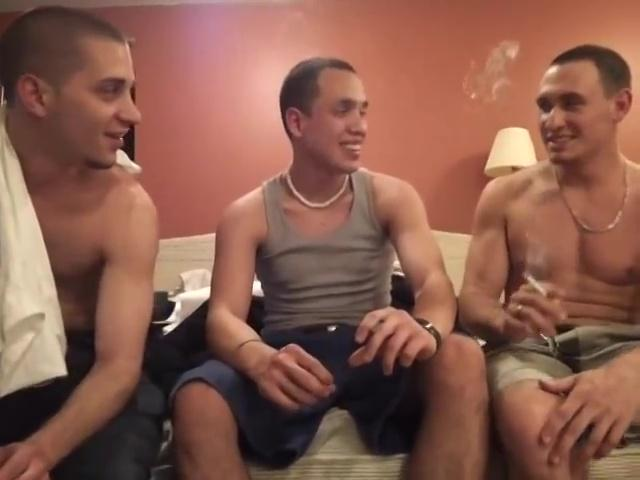cigarette: (523, 275, 553, 301), (372, 317, 386, 338)
